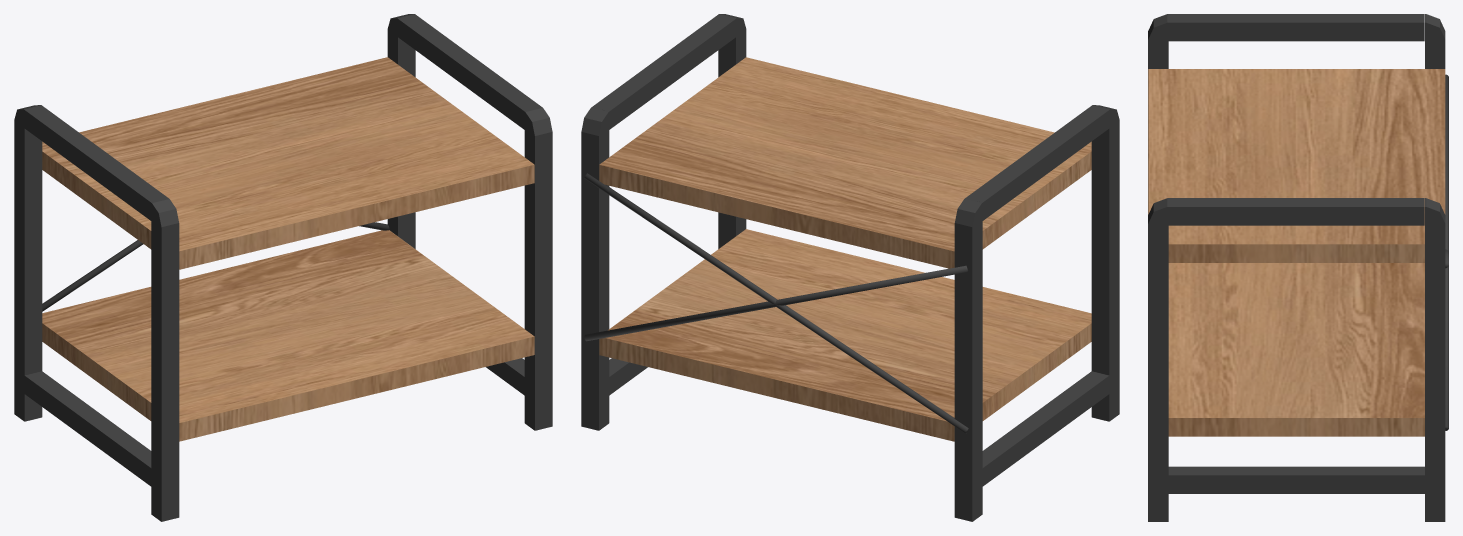
File: Shelve Small.fbx
3 renders of one model, left to right at view 1: azimuth 30°, elevation 25°; view 2: azimuth 150°, elevation 25°; view 3: azimuth 270°, elevation 25°, orthographic.
Parts seen in each view (by area): view 1: Shelve Small; view 2: Shelve Small; view 3: Shelve Small.
Boxes of the visible parts, box(x1,y1,x2,y2) form: Shelve Small: box(14, 14, 552, 521); Shelve Small: box(581, 14, 1119, 521); Shelve Small: box(1148, 14, 1448, 521).
Size of the model in its own units: 334 by 255 by 220.
2 materials, 1 textured.
